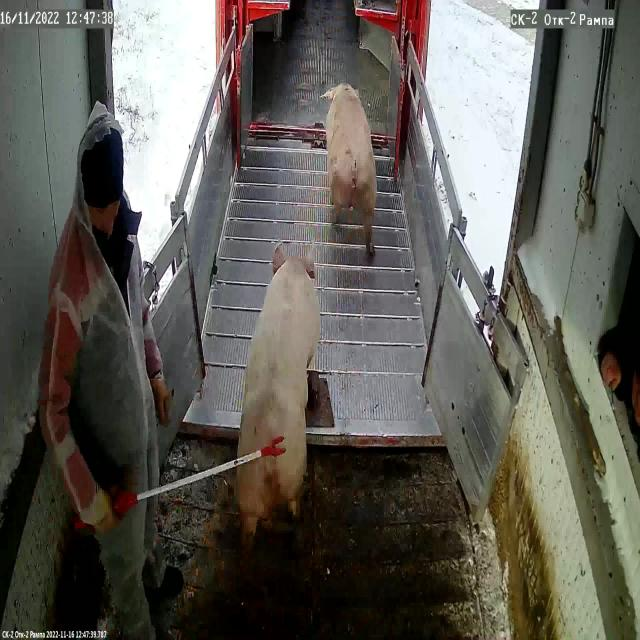pig: (234, 244, 320, 506), (326, 85, 376, 255)
